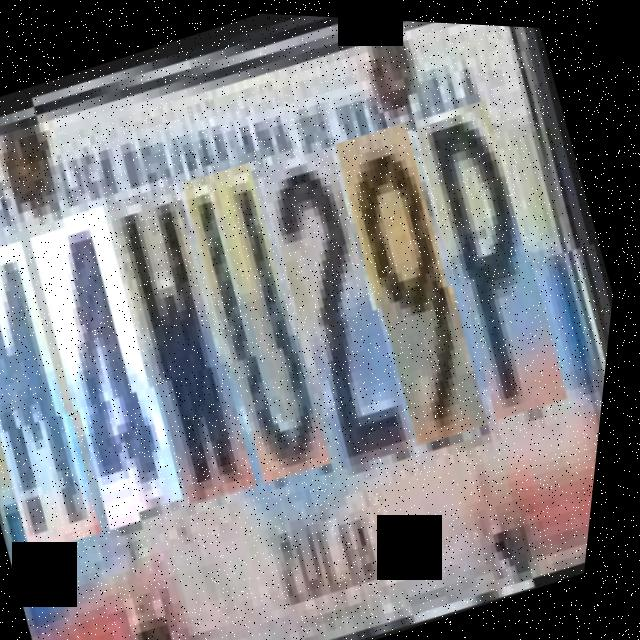2: (241, 137, 451, 466)
4: (11, 199, 221, 523)
9: (315, 113, 525, 443)
M: (0, 227, 137, 546)
P: (396, 96, 607, 426)
U: (163, 154, 370, 482)
W: (89, 177, 295, 506)
